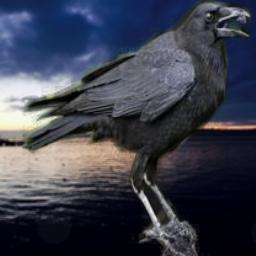Crow: (22, 0, 252, 256)
